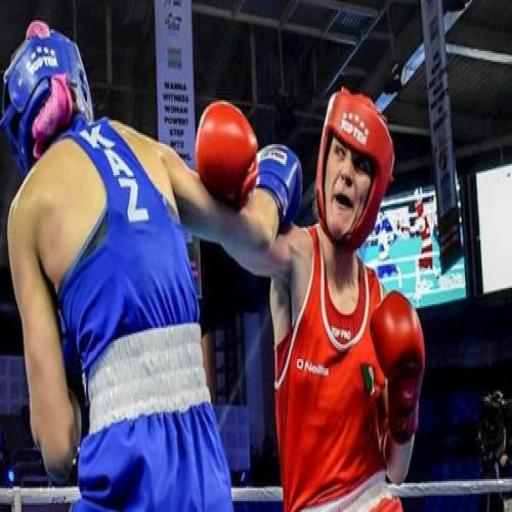boxing: (0, 18, 303, 510), (182, 44, 472, 512)
